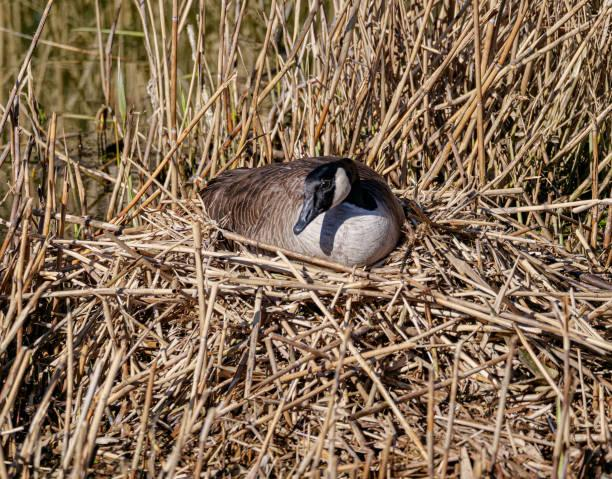Canadian-Goose: (198, 150, 404, 270)
